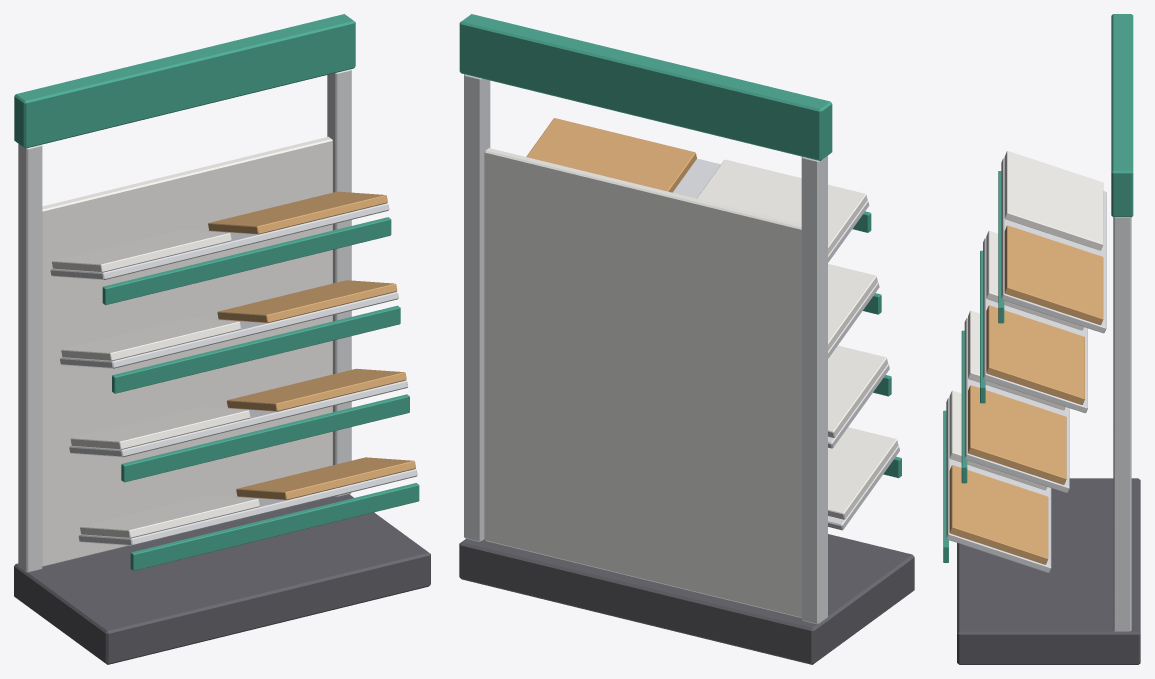
Rendered from petrol-station-and-forecourt-shop-newspaper-rack-59b158c5__33973.glb.
3 renders of one model, left to right at view 1: azimuth 30°, elevation 25°; view 2: azimuth 150°, elevation 25°; view 3: azimuth 270°, elevation 25°, orthographic. The views are drawn at different scales.
Parts seen in each view (by area): view 1: newspaper-rack; view 2: newspaper-rack; view 3: newspaper-rack.
Part boxes in pixels (x1,y1,x2,y2): newspaper-rack: (14, 14, 430, 664); newspaper-rack: (459, 14, 914, 664); newspaper-rack: (943, 14, 1140, 664).
Bounding box in the file's own units: 1.02 × 1.49 × 0.5381.
